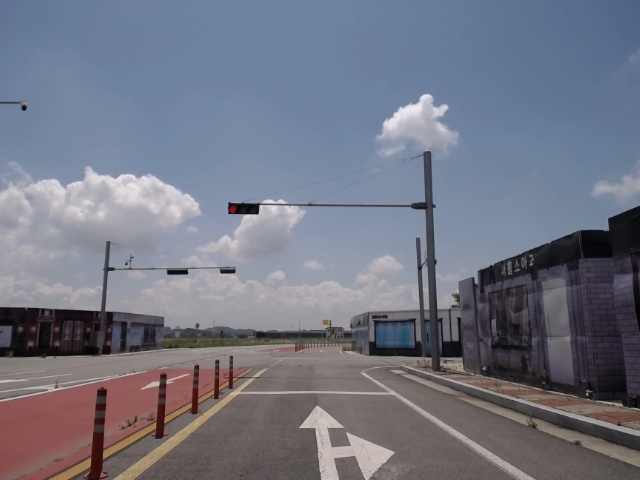red_3: (227, 201, 260, 215)
